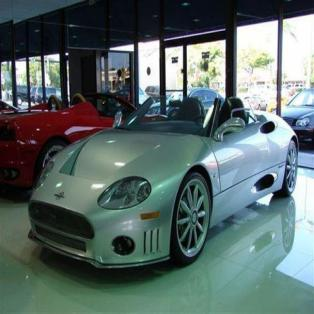Auto: (25, 94, 301, 271)
